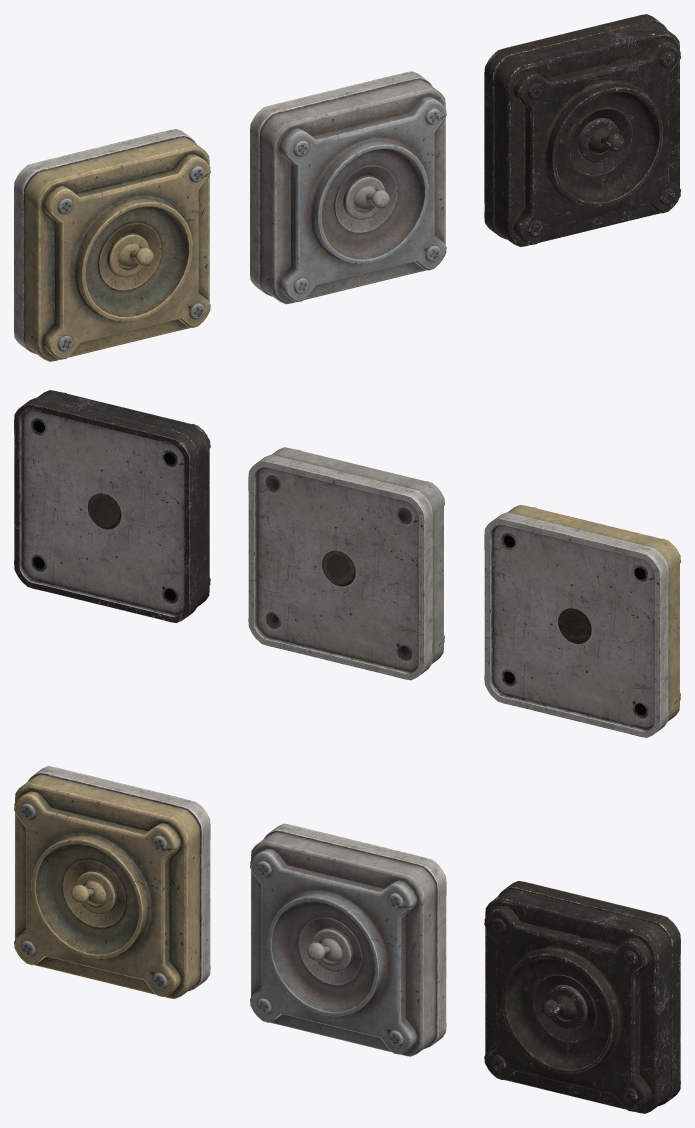
The model's file is vintage_industrial_light_switches_type_a.glb.
3 renders of one model, top to bottom at view 1: azimuth 30°, elevation 25°; view 2: azimuth 150°, elevation 25°; view 3: azimuth 330°, elevation 25°, orthographic.
Visible parts, largest first — view 1: Vintage Industrial Light Switch Type A Brass_0, Vintage Industrial Light Switch Type A Painted Black_2, Vintage Industrial Light Switch Type A Metallic_1; view 2: Vintage Industrial Light Switch Type A Brass_0, Vintage Industrial Light Switch Type A Painted Black_2, Vintage Industrial Light Switch Type A Metallic_1; view 3: Vintage Industrial Light Switch Type A Painted Black_2, Vintage Industrial Light Switch Type A Brass_0, Vintage Industrial Light Switch Type A Metallic_1.
Part boxes in pixels (x1,y1,x2,y2): Vintage Industrial Light Switch Type A Brass_0: (14,129,210,361); Vintage Industrial Light Switch Type A Painted Black_2: (484,14,680,246); Vintage Industrial Light Switch Type A Metallic_1: (250,71,446,304); Vintage Industrial Light Switch Type A Brass_0: (484,505,680,737); Vintage Industrial Light Switch Type A Painted Black_2: (14,390,210,622); Vintage Industrial Light Switch Type A Metallic_1: (248,447,444,680); Vintage Industrial Light Switch Type A Painted Black_2: (484,881,680,1113); Vintage Industrial Light Switch Type A Brass_0: (14,766,210,998); Vintage Industrial Light Switch Type A Metallic_1: (250,823,446,1056).
Size of the model in its own units: 0.3732 by 0.1016 by 0.0463.
Materials: 3 (3 with a texture image).
